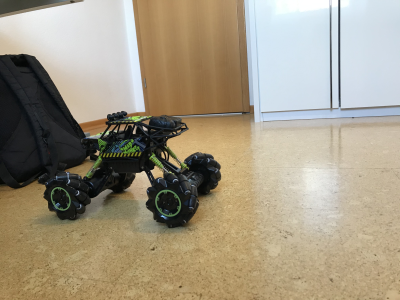remote control car: (42, 106, 223, 231)
